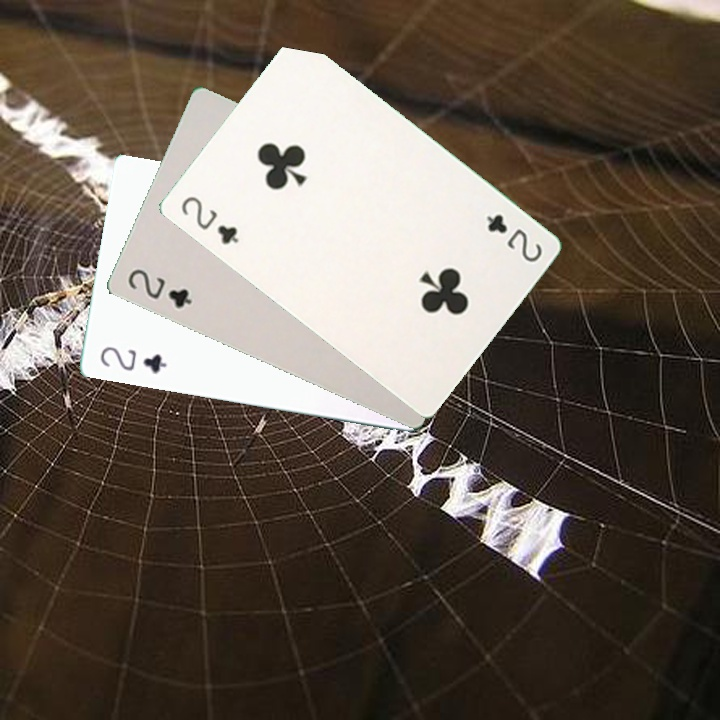2c: (176, 192, 241, 248), (482, 210, 545, 265), (123, 264, 195, 311), (96, 342, 169, 377)
